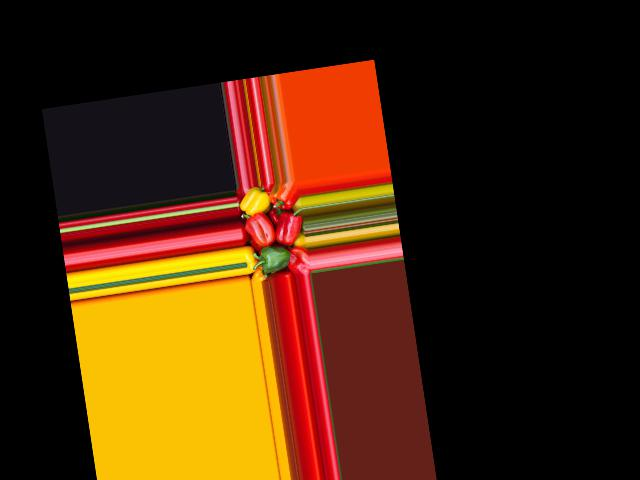bell_pepper: (236, 184, 274, 219)
